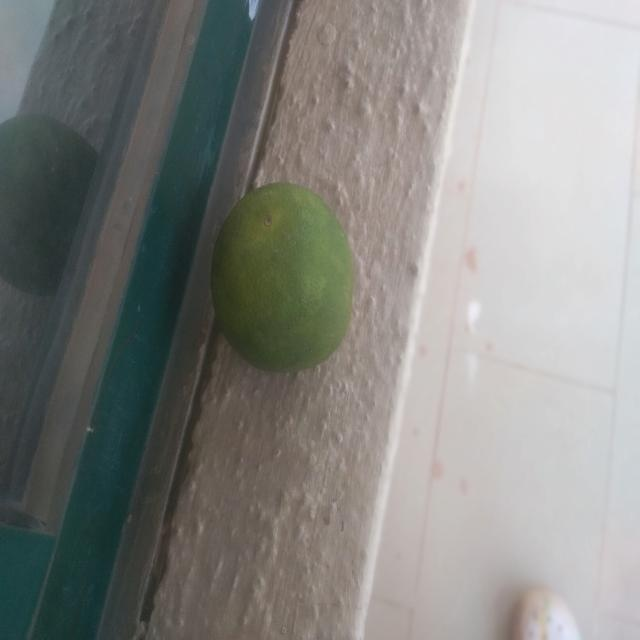agrume: (193, 157, 383, 397)
